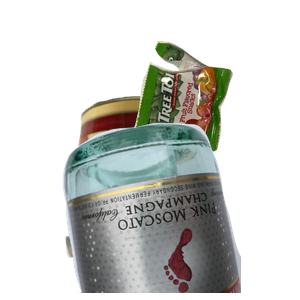glass: (60, 120, 300, 300)
metal: (69, 93, 265, 273)
plastic: (63, 170, 278, 300)
trash: (131, 38, 300, 182)
